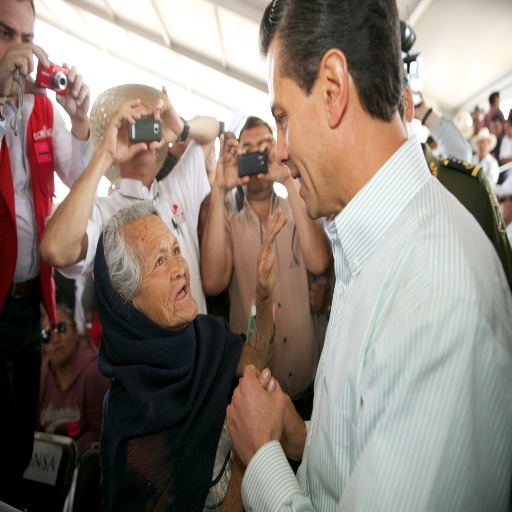hand: (224, 361, 284, 464), (232, 364, 272, 471), (255, 204, 288, 299), (101, 95, 147, 163), (0, 41, 52, 97), (147, 82, 183, 149), (212, 126, 246, 196), (54, 61, 90, 122), (255, 132, 291, 185), (282, 390, 307, 461), (308, 266, 330, 316), (412, 88, 428, 121)
